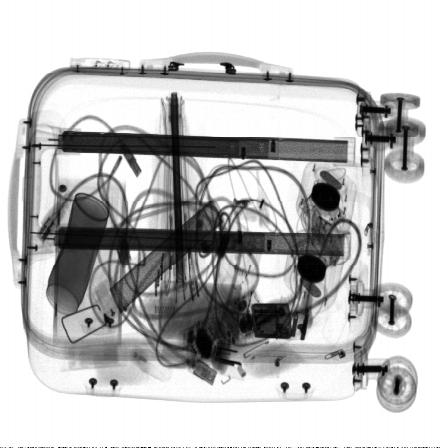Lighter: (251, 302, 293, 340)
